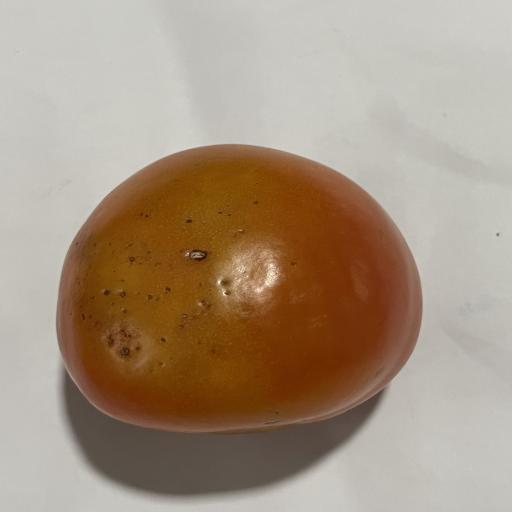unripe: (57, 145, 422, 433)
